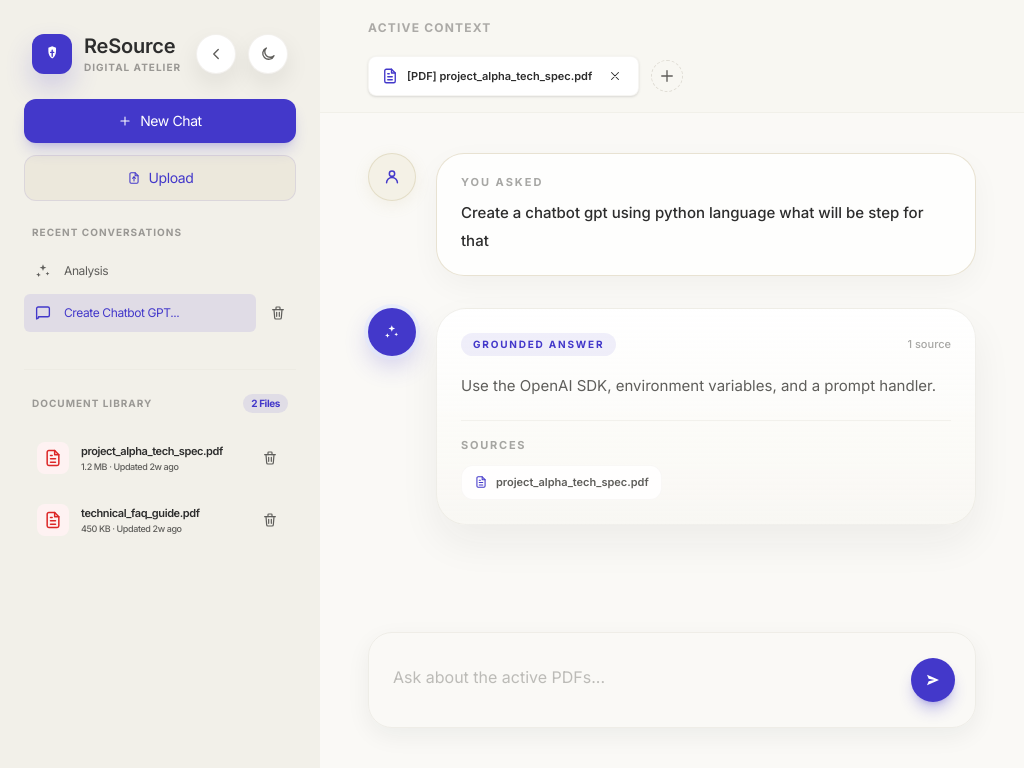
ResourceWorkspace › deletes a conversation from the sidebar and backend while keeping Analysis protected
Expected: the text "Use the OpenAI SDK, environment variables, and a prompt handler." is shown, [461,376,936,394]
What coordinates should you click on to do the following:
click the button named "Delete chat Create Chatbot GPT..."
I would click on:
 (278, 313)
Its box is [260,295,296,331].
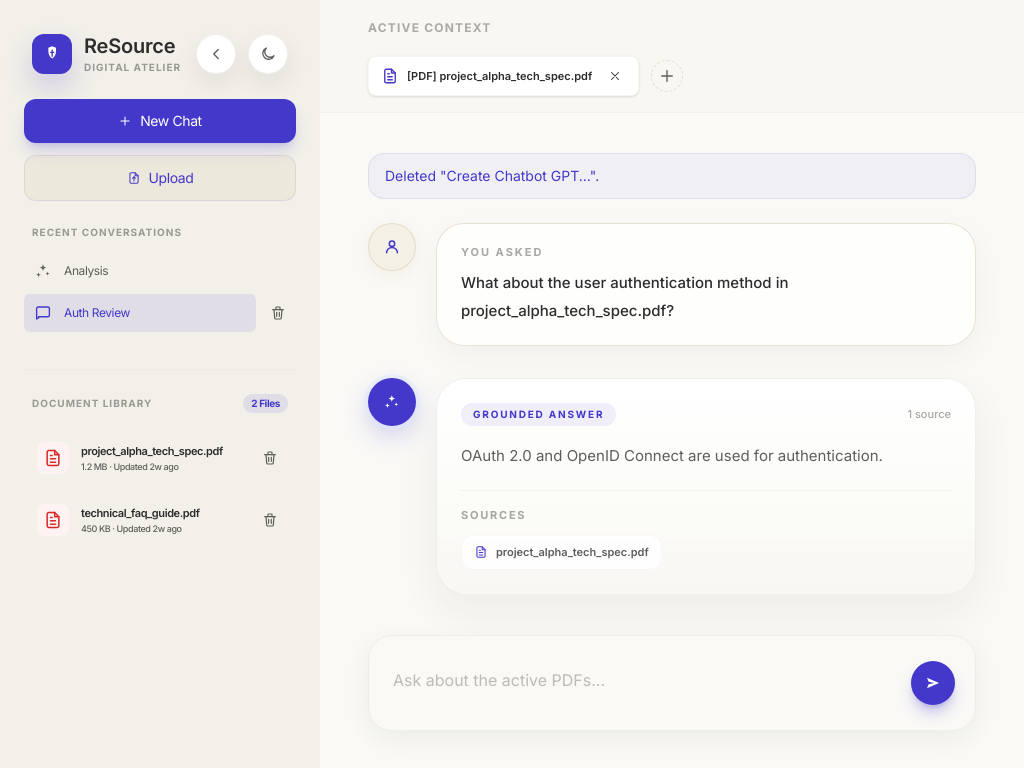
Expected: the button "Analysis" is shown, [24,252,296,290]
Now the text "OAuth 2.0 and OpenID Connect are used for authentication." is shown, box [461,446,883,464]
